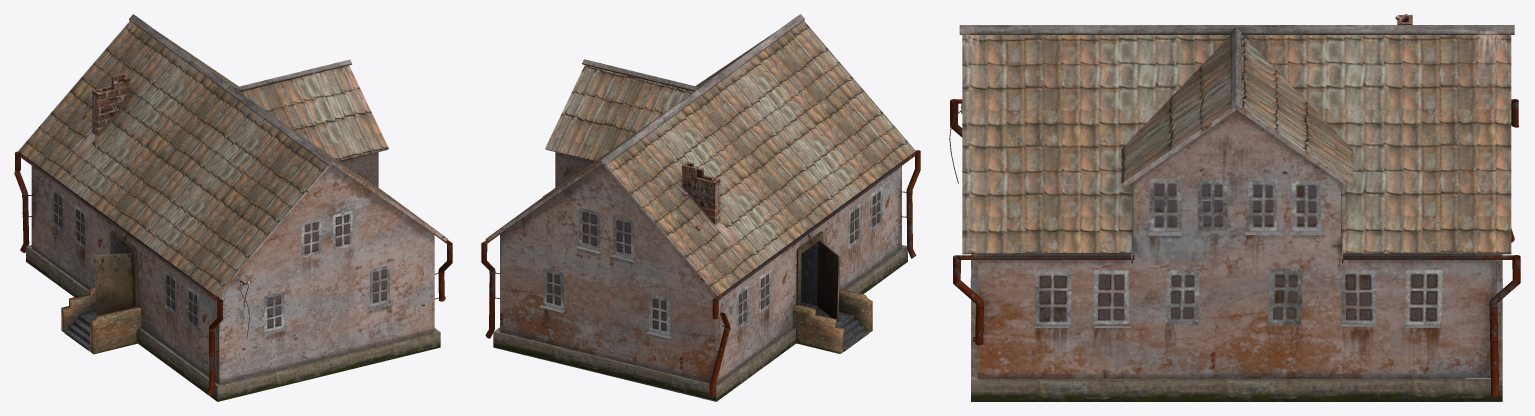
The model's file is abandoned_house_lowpoly_model..glb.
The picture shows the model from 3 angles, left to right: view 1: azimuth 30°, elevation 25°; view 2: azimuth 150°, elevation 25°; view 3: azimuth 270°, elevation 25°; orthographic projection. The views are drawn at different scales.
Bounding box in the file's own units: 6.62 × 4.96 × 8.52.
1 material, 1 textured.
